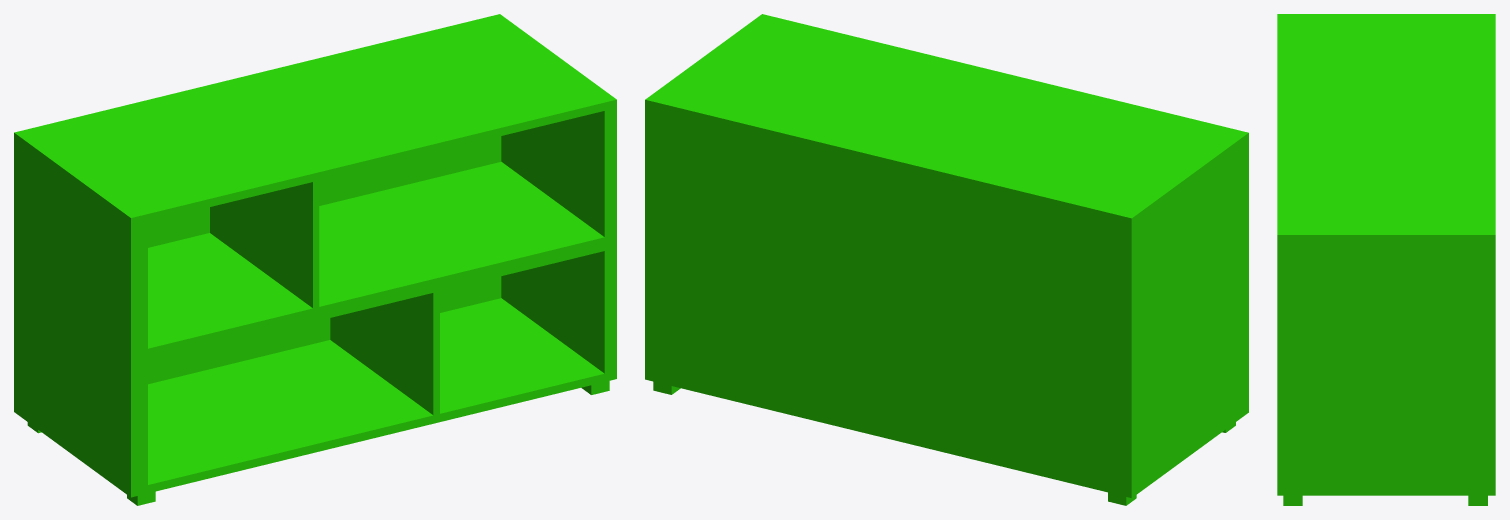
The model's file is Cupboard_02_Lod0.fbx.
3 views of the same model, side by side, from view 1: azimuth 30°, elevation 25°; view 2: azimuth 150°, elevation 25°; view 3: azimuth 270°, elevation 25° (orthographic). The views are drawn at different scales.
Visible parts, largest first — view 1: Cupboard_02_Lod0; view 2: Cupboard_02_Lod0; view 3: Cupboard_02_Lod0.
Boxes of the visible parts, x1,y1,x2,y2 form: Cupboard_02_Lod0: (14, 14, 616, 505); Cupboard_02_Lod0: (645, 14, 1248, 505); Cupboard_02_Lod0: (1277, 14, 1495, 505).
Size of the model in its own units: 101 by 58.16 by 42.15.
